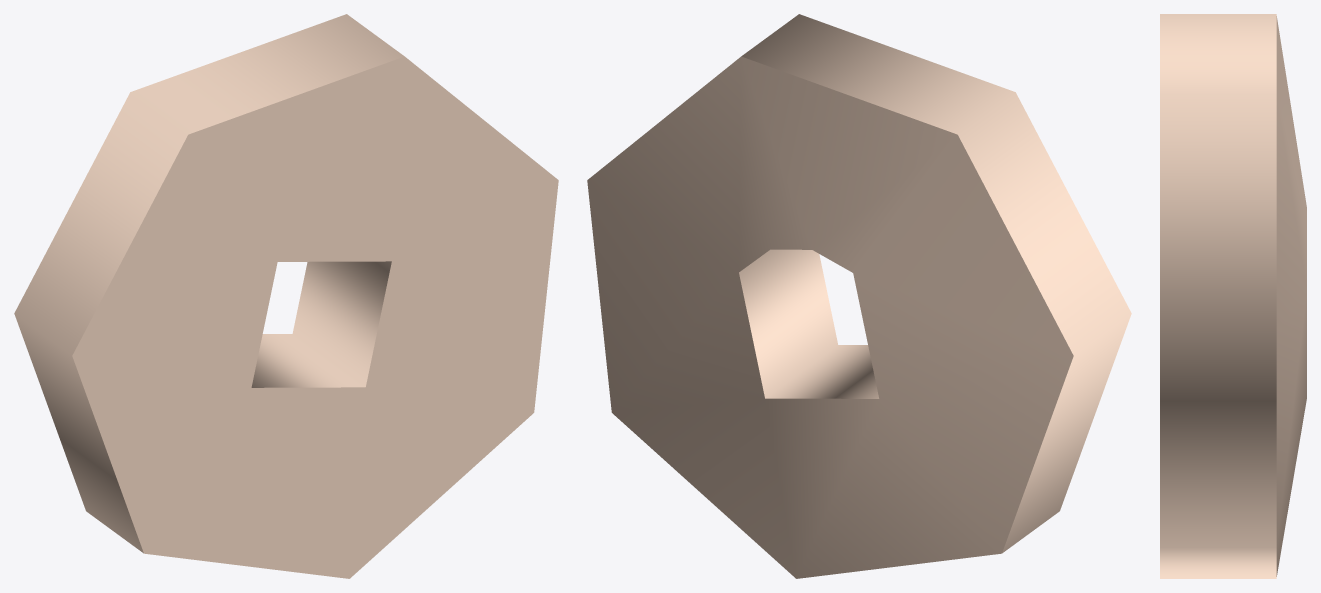
The model's file is Ecrou_Roue etoile Quarts.obj.
The picture shows the model from 3 angles, left to right: view 1: azimuth 30°, elevation 25°; view 2: azimuth 150°, elevation 25°; view 3: azimuth 270°, elevation 25°; orthographic projection.
Parts seen in each view (by area): view 1: Face_1, Face_2, Face_4; view 2: Face_3, Face_2, Face_4; view 3: Face_2, Face_3.
Boxes of the visible parts, left/top/right/bottom form: Face_1: left=72, top=56, right=558, bottom=578; Face_2: left=14, top=14, right=404, bottom=553; Face_4: left=251, top=261, right=391, bottom=387; Face_3: left=587, top=56, right=1073, bottom=578; Face_2: left=741, top=14, right=1131, bottom=553; Face_4: left=739, top=249, right=879, bottom=398; Face_2: left=1160, top=14, right=1276, bottom=578; Face_3: left=1276, top=16, right=1306, bottom=576.
Size of the model in its own units: 0.00969 by 0.00969 by 0.00252.
